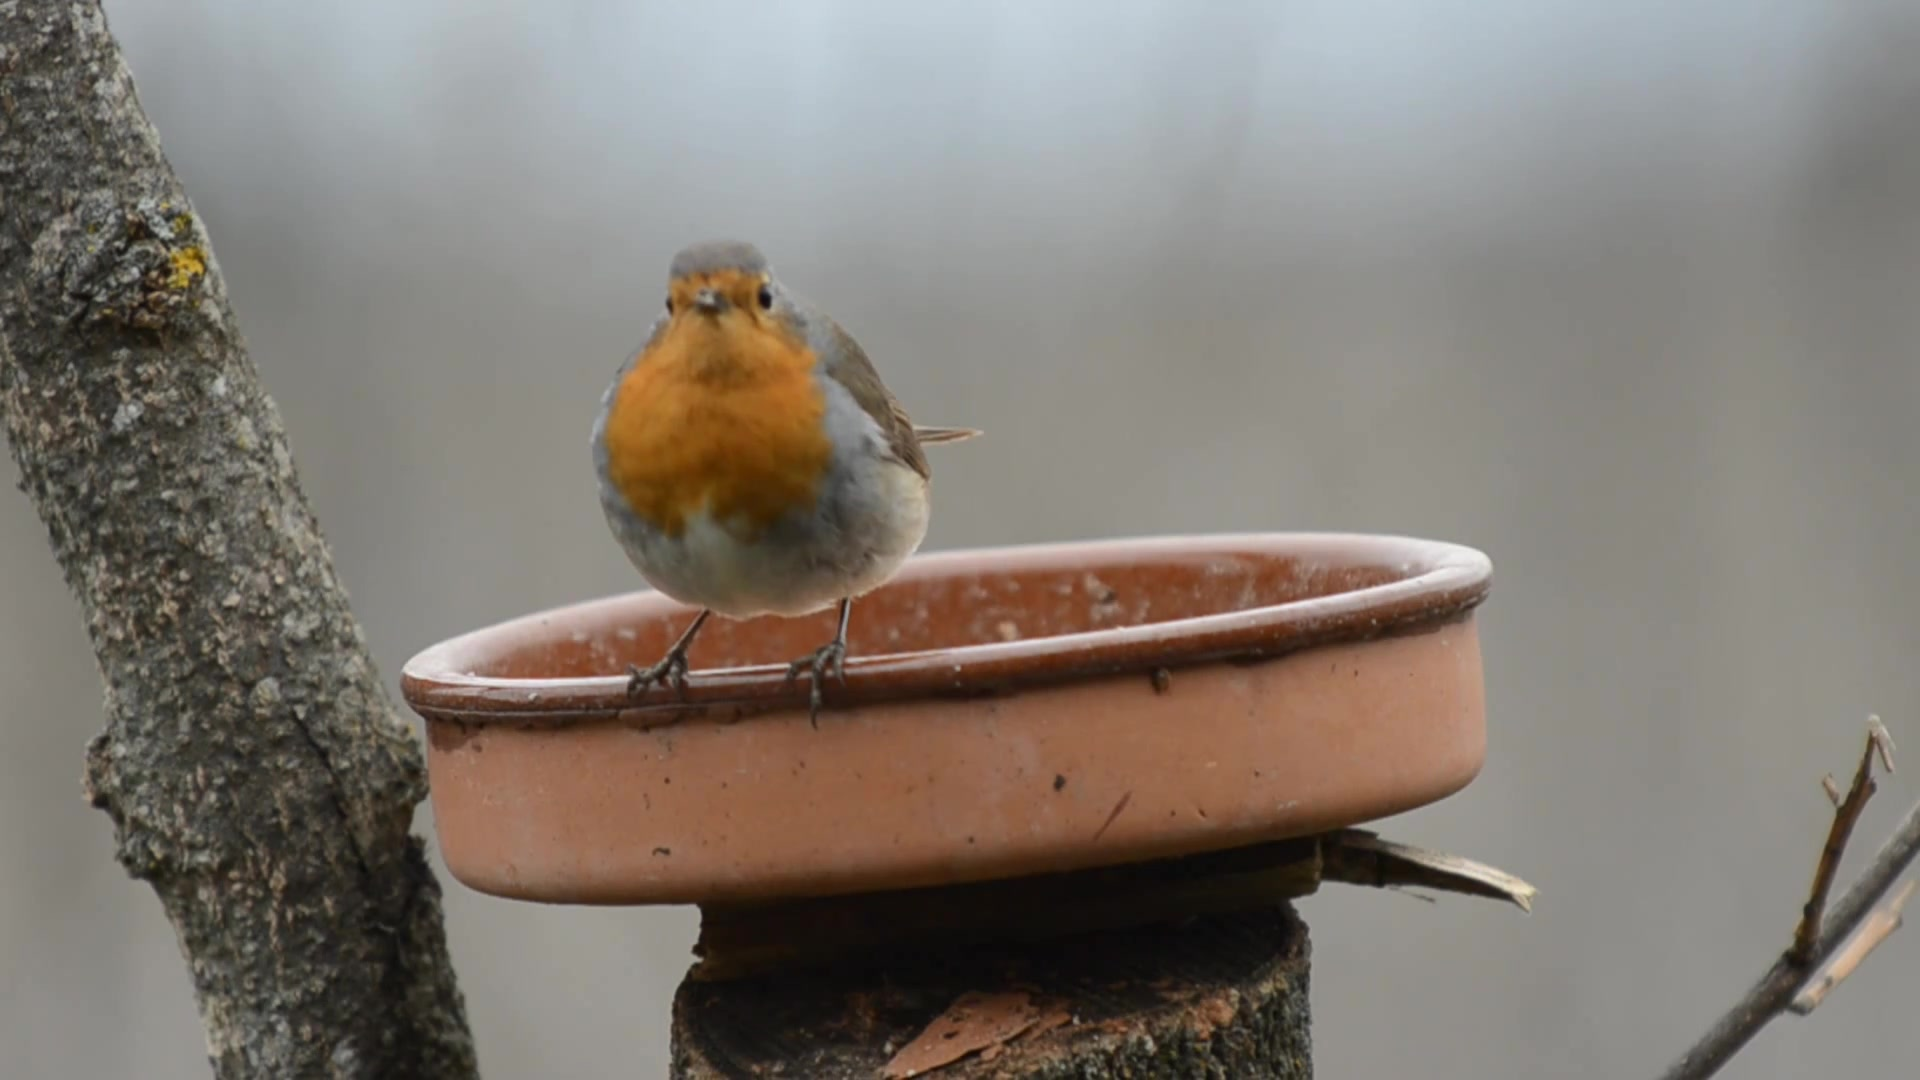bird: (589, 236, 984, 728)
